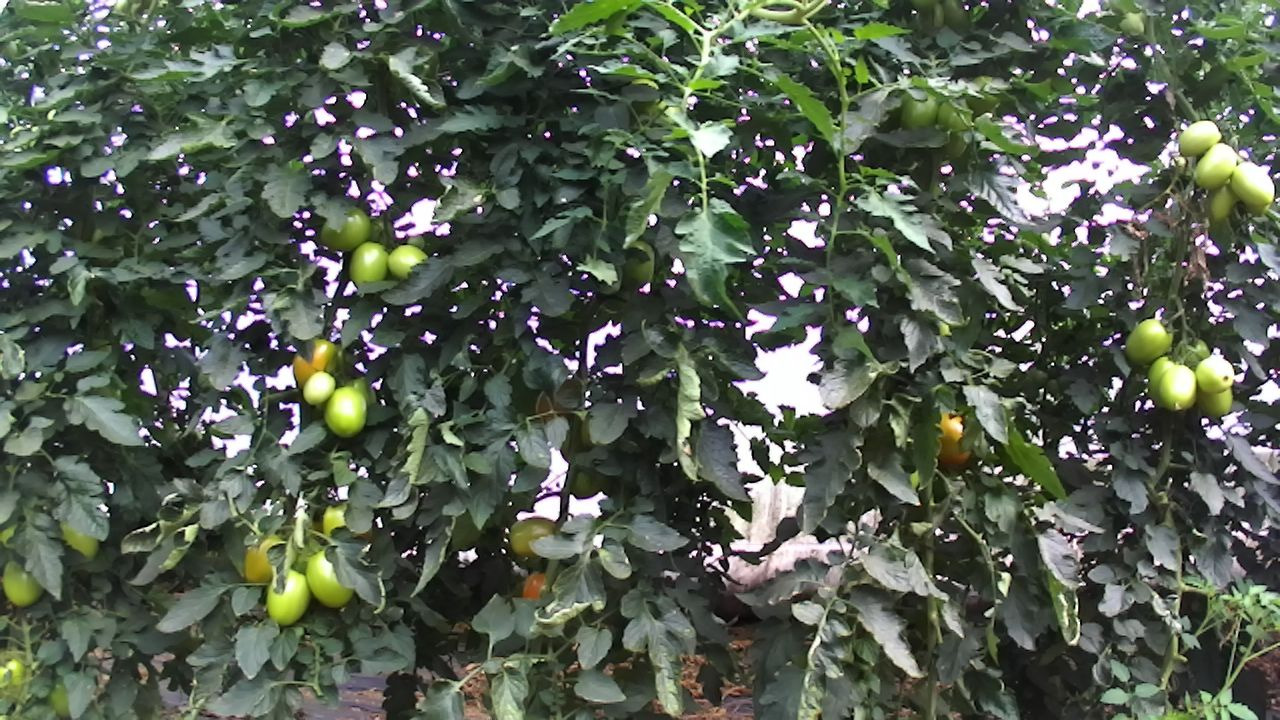tomato: (303, 547, 356, 611), (289, 331, 344, 392), (262, 567, 312, 630), (315, 200, 375, 252), (0, 555, 49, 612), (502, 514, 560, 562), (1122, 315, 1178, 364), (320, 384, 368, 439), (1227, 158, 1276, 211), (1192, 140, 1240, 191), (1155, 362, 1200, 414), (345, 239, 391, 286), (1177, 117, 1224, 159), (1192, 380, 1236, 419), (385, 242, 430, 280), (1194, 353, 1236, 393), (300, 369, 336, 407)
